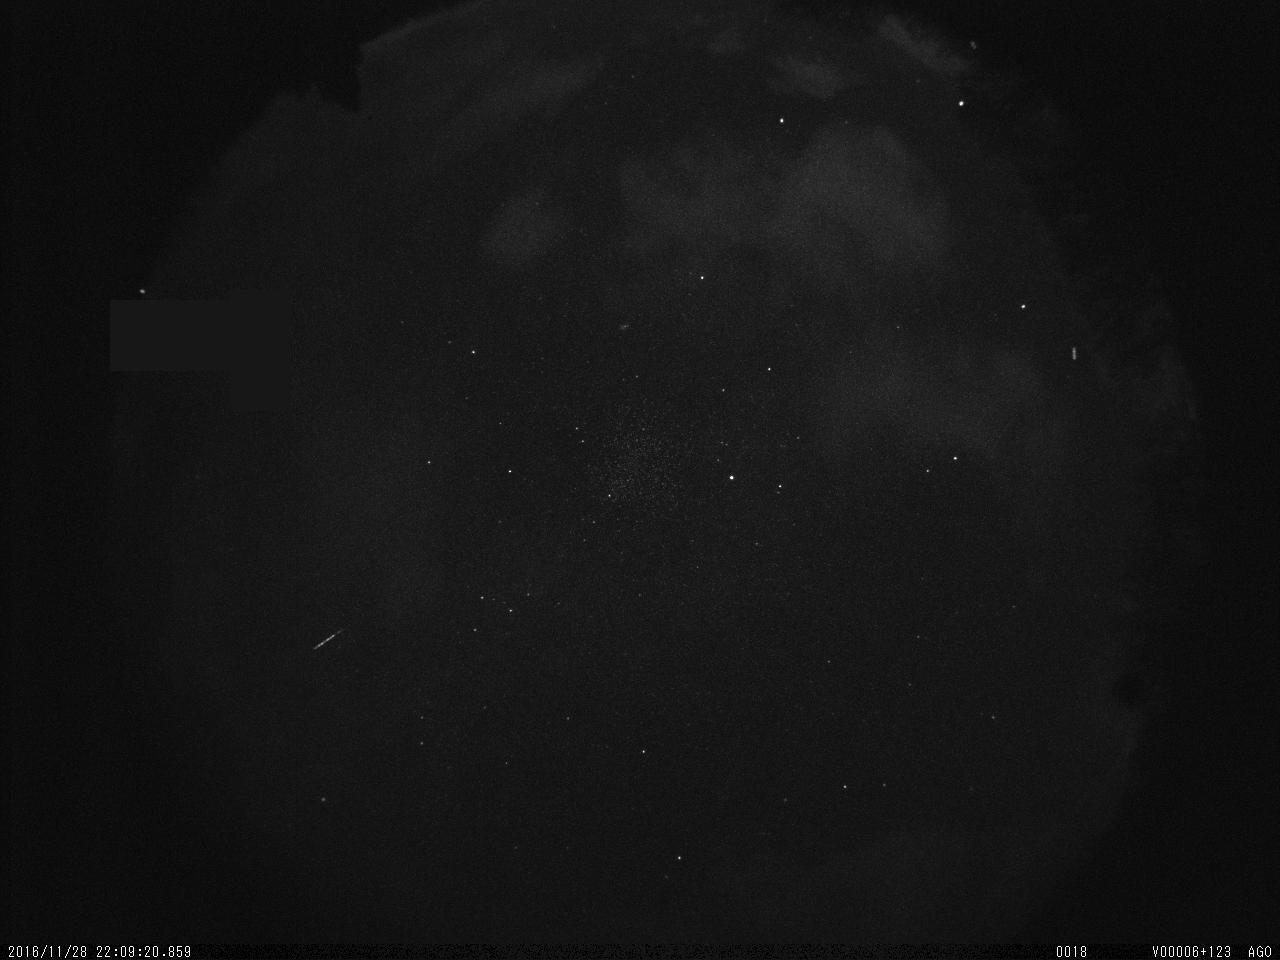meteor: (303, 617, 351, 663)
